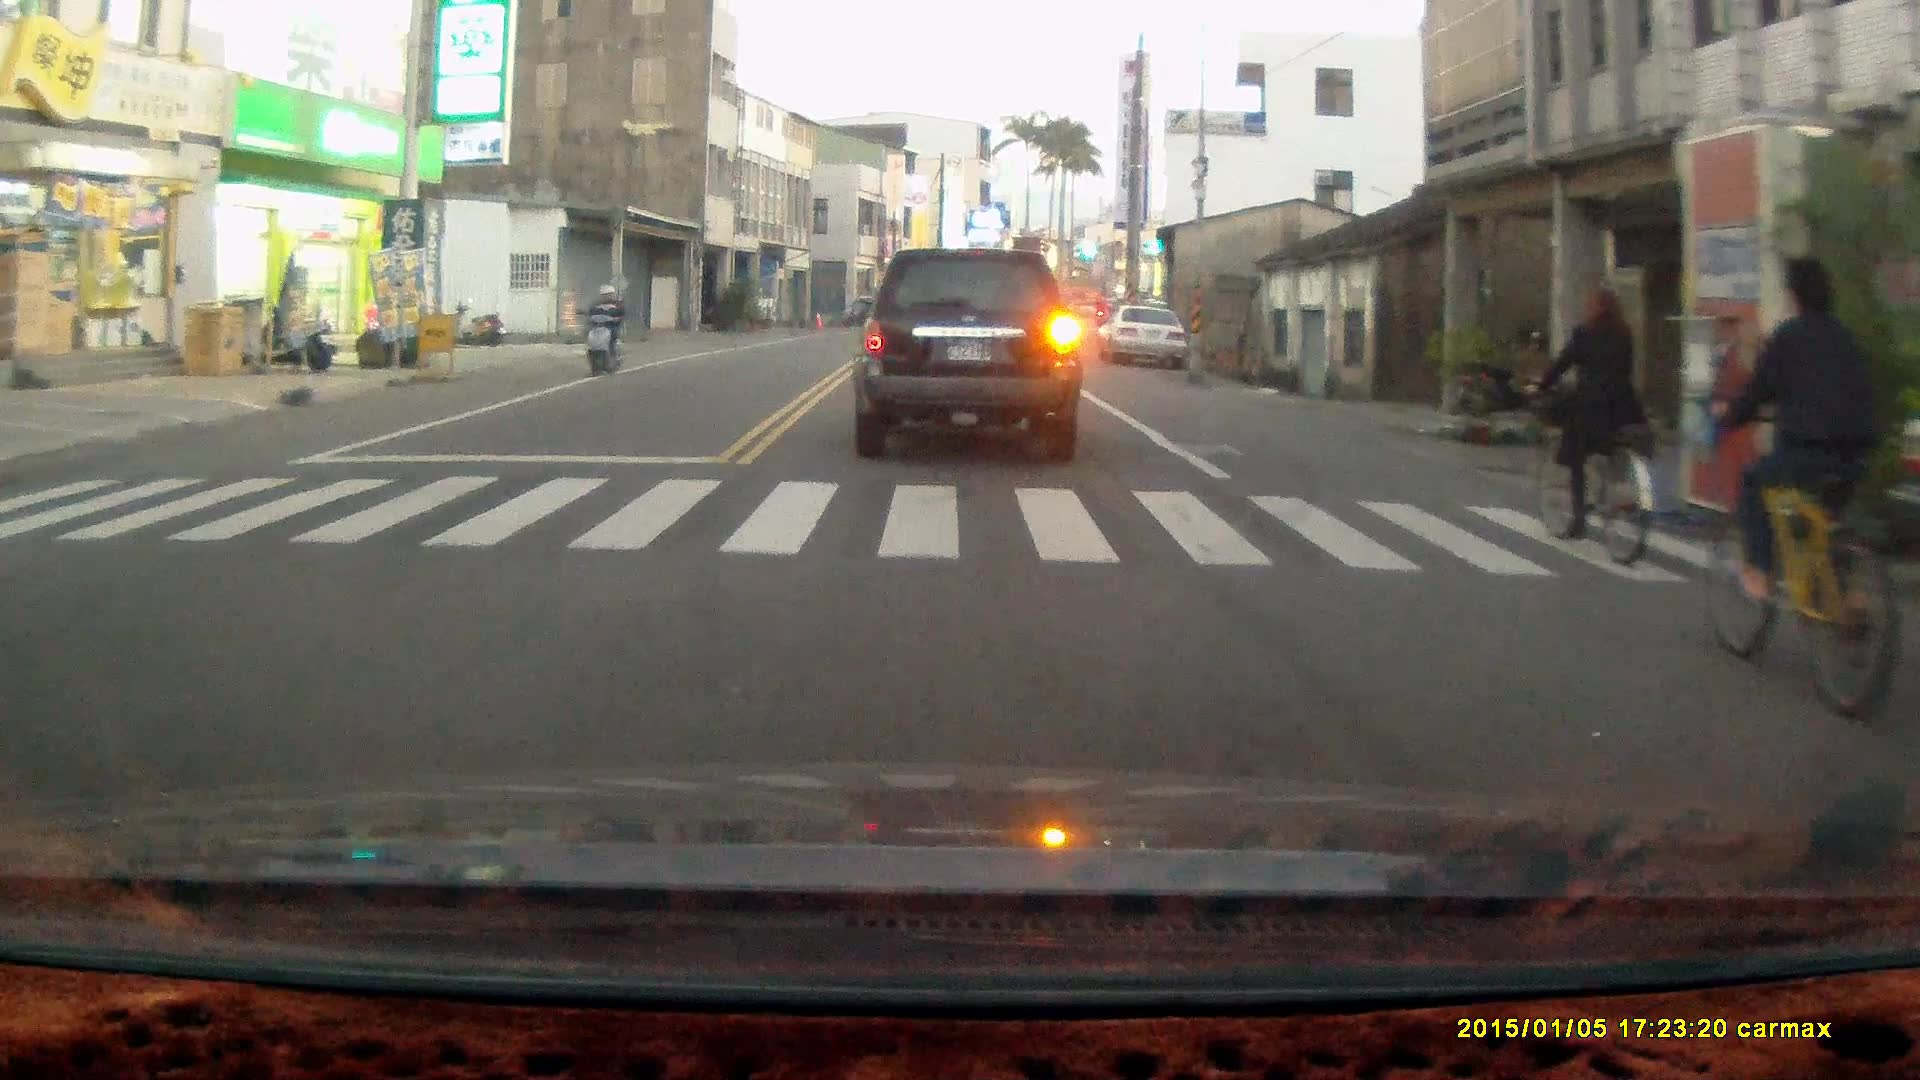rider: (1705, 252, 1899, 724), (1520, 281, 1657, 568), (578, 277, 628, 375)
vehicle: (852, 245, 1084, 465), (1104, 308, 1189, 370)
